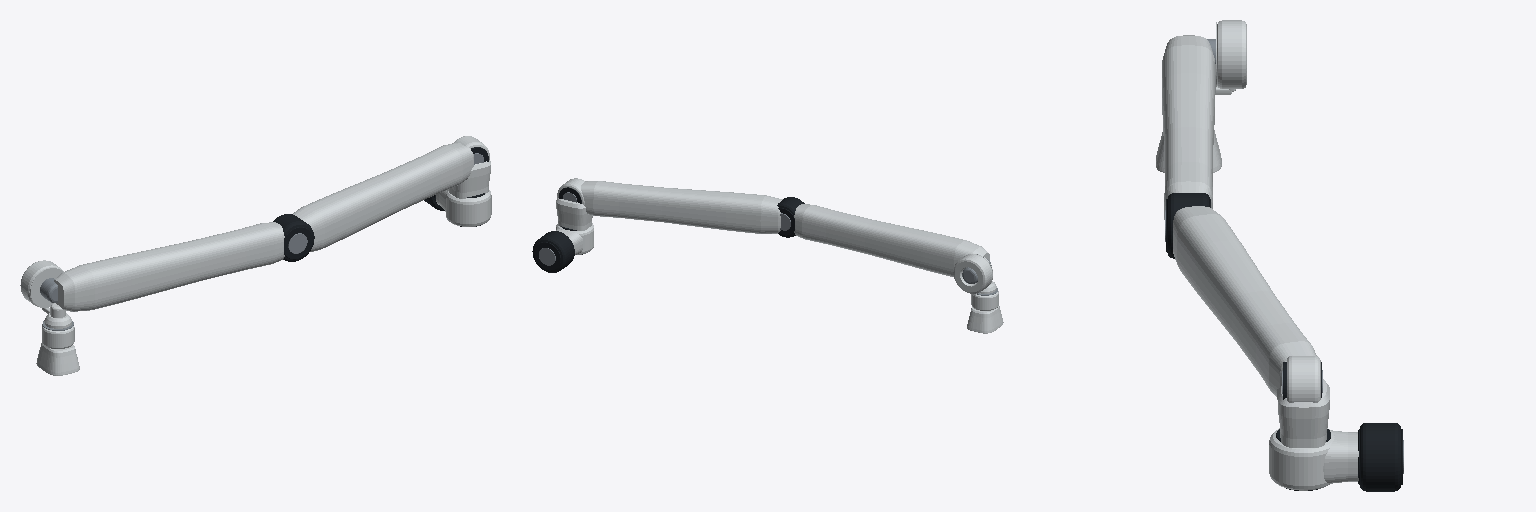
The robot description file, URDF, robot "ur10e_reference":
<?xml version='1.0' encoding='utf-8'?>
<robot name="ur10e_reference">
  <link name="world" />
  <link name="base_link_inertia">
    <inertial>
      <origin xyz="0 0 0" rpy="0 -0 0" />
      <mass value="4.0" />
      <inertia ixx="0.0061063308908" iyy="0.0061063308908" izz="0.01125" ixy="0.0" ixz="0.0" iyz="0.0" />
    </inertial>
    <visual name="base_link_inertia_base_visual">
      <geometry>
        <mesh filename="meshes/base_link_inertia_base_visual.stl" />
      </geometry>
      <material name="base_link_inertia_base">
        <color rgba="0.16 0.18 0.2 1" />
      </material>
    </visual>
    <collision name="base_link_inertia_base_collision">
      <origin xyz="0 0 -0.041" rpy="0 -0 0" />
      <geometry>
        <cylinder radius="0.09112500000000001" length="0.082" />
      </geometry>
    </collision>
    <visual name="base_link_inertia_mounting_rim_visual">
      <geometry>
        <mesh filename="meshes/base_link_inertia_mounting_rim_visual.stl" />
      </geometry>
      <material name="base_link_inertia_mounting_rim">
        <color rgba="0.55 0.58 0.61 1" />
      </material>
    </visual>
    <visual name="base_link_inertia_beam_visual">
      <geometry>
        <mesh filename="meshes/base_link_inertia_beam_visual.stl" />
      </geometry>
      <material name="base_link_inertia_beam">
        <color rgba="0.82 0.84 0.85 1" />
      </material>
    </visual>
    <collision name="base_link_inertia_beam_collision">
      <origin xyz="0 0 0.0281" rpy="0 -0 -1.57079632679" />
      <geometry>
        <box size="0.1 0.082 0.02248" />
      </geometry>
    </collision>
    <visual name="base_link_inertia_shoulder_pan_joint_stator_visual">
      <geometry>
        <mesh filename="meshes/base_link_inertia_shoulder_pan_joint_stator_visual.stl" />
      </geometry>
      <material name="base_link_inertia_shoulder_pan_joint_stator">
        <color rgba="0.82 0.84 0.85 1" />
      </material>
    </visual>
    <collision name="base_link_inertia_shoulder_pan_joint_stator_collision">
      <origin xyz="0 0 0.0807" rpy="0 -0 -1.57079632679" />
      <geometry>
        <cylinder radius="0.0375" length="0.045" />
      </geometry>
    </collision>
  </link>
  <link name="shoulder_link">
    <inertial>
      <origin xyz="0.021 -0.027 0" rpy="0 -0 0" />
      <mass value="7.369" />
      <inertia ixx="0.03408" iyy="0.02156" izz="0.03529" ixy="0.00425" ixz="2.000000000000189e-05" iyz="-8.00000000000061e-05" />
    </inertial>
    <visual name="shoulder_link_shoulder_lift_joint_stator_visual">
      <geometry>
        <mesh filename="meshes/shoulder_link_shoulder_lift_joint_stator_visual.stl" />
      </geometry>
      <material name="shoulder_link_shoulder_lift_joint_stator">
        <color rgba="0.82 0.84 0.85 1" />
      </material>
    </visual>
    <collision name="shoulder_link_shoulder_lift_joint_stator_collision">
      <origin xyz="0 -0.0655 -1.34342785785e-11" rpy="0 1.57079632679 -1.57079632679" />
      <geometry>
        <cylinder radius="0.052" length="0.045" />
      </geometry>
    </collision>
    <visual name="shoulder_link_shoulder_pan_joint_output_shaft_visual">
      <geometry>
        <mesh filename="meshes/shoulder_link_shoulder_pan_joint_output_shaft_visual.stl" />
      </geometry>
      <material name="shoulder_link_shoulder_pan_joint_output_shaft">
        <color rgba="0.82 0.84 0.85 1" />
      </material>
    </visual>
    <collision name="shoulder_link_shoulder_pan_joint_output_shaft_collision">
      <origin xyz="-0 -0 -0.074470000009" rpy="-0 -0 -1.57079632679" />
      <geometry>
        <cylinder radius="0.017625" length="0.09605999998195089" />
      </geometry>
    </collision>
    <visual name="shoulder_link_shoulder_pan_joint_output_fairing_visual">
      <geometry>
        <mesh filename="meshes/shoulder_link_shoulder_pan_joint_output_fairing_visual.stl" />
      </geometry>
      <material name="shoulder_link_shoulder_pan_joint_output_fairing">
        <color rgba="0.82 0.84 0.85 1" />
      </material>
    </visual>
    <collision name="shoulder_link_shoulder_pan_joint_output_fairing_collision">
      <origin xyz="-0 -0 -0.0624500000044" rpy="-0 -0 -1.57079632679" />
      <geometry>
        <cylinder radius="0.0315" length="0.022099999991180563" />
      </geometry>
    </collision>
    <visual name="shoulder_link_shoulder_pan_joint_rotor_ring_visual">
      <geometry>
        <mesh filename="meshes/shoulder_link_shoulder_pan_joint_rotor_ring_visual.stl" />
      </geometry>
      <material name="shoulder_link_shoulder_pan_joint_rotor_ring">
        <color rgba="0.55 0.58 0.61 1" />
      </material>
    </visual>
    <collision name="shoulder_link_shoulder_pan_joint_rotor_ring_collision">
      <origin xyz="0 0 -0.0745" rpy="-0 -0 -1.57079632679" />
      <geometry>
        <cylinder radius="0.036" length="0.002" />
      </geometry>
    </collision>
    <visual name="shoulder_link_shoulder_lift_joint_support_visual">
      <geometry>
        <mesh filename="meshes/shoulder_link_shoulder_lift_joint_support_visual.stl" />
      </geometry>
      <material name="shoulder_link_shoulder_lift_joint_support">
        <color rgba="0.82 0.84 0.85 1" />
      </material>
    </visual>
    <collision name="shoulder_link_shoulder_lift_joint_support_collision">
      <origin xyz="0 -0.0327499999878 -0.0594893015835" rpy="1.570796327 -0 0" />
      <geometry>
        <box size="0.01144 0.01144 0.0655" />
      </geometry>
    </collision>
    <visual name="shoulder_link_shoulder_lift_joint_stator_lug_visual">
      <geometry>
        <mesh filename="meshes/shoulder_link_shoulder_lift_joint_stator_lug_visual.stl" />
      </geometry>
      <material name="shoulder_link_shoulder_lift_joint_stator_lug">
        <color rgba="0.82 0.84 0.85 1" />
      </material>
    </visual>
    <collision name="shoulder_link_shoulder_lift_joint_stator_lug_collision">
      <origin xyz="0 -0.0654999999899 -0.0492446508018" rpy="-3.14159265338 -0 0" />
      <geometry>
        <box size="0.01144 0.01144 0.0204893015768" />
      </geometry>
    </collision>
  </link>
  <link name="upper_arm_link">
    <inertial>
      <origin xyz="-0.2327 0 0.158" rpy="0 -0 0" />
      <mass value="13.051" />
      <inertia ixx="0.02814" iyy="0.77068" izz="0.76943" ixy="5e-05" ixz="-0.01561" iyz="2e-05" />
    </inertial>
    <visual name="upper_arm_link_beam_visual">
      <geometry>
        <mesh filename="meshes/upper_arm_link_beam_visual.stl" />
      </geometry>
      <material name="upper_arm_link_beam">
        <color rgba="0.82 0.84 0.85 1" />
      </material>
    </visual>
    <collision name="upper_arm_link_beam_collision">
      <origin xyz="-0.30635 0 0" rpy="1.57079632679 -0 -1.57079632679" />
      <geometry>
        <box size="0.1 0.082 0.4983" />
      </geometry>
    </collision>
    <visual name="upper_arm_link_shoulder_lift_joint_output_shaft_visual">
      <geometry>
        <mesh filename="meshes/upper_arm_link_shoulder_lift_joint_output_shaft_visual.stl" />
      </geometry>
      <material name="upper_arm_link_shoulder_lift_joint_output_shaft">
        <color rgba="0.55 0.58 0.61 1" />
      </material>
    </visual>
    <collision name="upper_arm_link_shoulder_lift_joint_output_shaft_collision">
      <origin xyz="0 0 0.044" rpy="-0 -0 -1.57079632679" />
      <geometry>
        <cylinder radius="0.024439999999999996" length="0.088" />
      </geometry>
    </collision>
    <visual name="upper_arm_link_shoulder_lift_joint_output_plate_visual">
      <geometry>
        <mesh filename="meshes/upper_arm_link_shoulder_lift_joint_output_plate_visual.stl" />
      </geometry>
      <material name="upper_arm_link_shoulder_lift_joint_output_plate">
        <color rgba="0.82 0.84 0.85 1" />
      </material>
    </visual>
    <collision name="upper_arm_link_shoulder_lift_joint_output_plate_collision">
      <origin xyz="0 0 0.042" rpy="-0 -0 -1.57079632679" />
      <geometry>
        <cylinder radius="0.04939999999999999" length="0.002" />
      </geometry>
    </collision>
  </link>
  <link name="forearm_link">
    <inertial>
      <origin xyz="-0.33155 0 0.068" rpy="0 -0 0" />
      <mass value="3.989" />
      <inertia ixx="0.01014" iyy="0.30928" izz="0.30646" ixy="8e-05" ixz="0.00916" iyz="0.0" />
    </inertial>
    <visual name="forearm_link_housing_visual">
      <geometry>
        <mesh filename="meshes/forearm_link_housing_visual.stl" />
      </geometry>
      <material name="forearm_link_housing">
        <color rgba="0.16 0.18 0.2 1" />
      </material>
    </visual>
    <collision name="forearm_link_housing_collision">
      <origin xyz="0 0 0" rpy="-0 -0 -1.57079632679" />
      <geometry>
        <cylinder radius="0.05" length="0.065" />
      </geometry>
    </collision>
    <visual name="forearm_link_cap_visual">
      <geometry>
        <mesh filename="meshes/forearm_link_cap_visual.stl" />
      </geometry>
      <material name="forearm_link_cap">
        <color rgba="0.16 0.18 0.2 1" />
      </material>
    </visual>
    <visual name="forearm_link_cap_hub_visual">
      <geometry>
        <mesh filename="meshes/forearm_link_cap_hub_visual.stl" />
      </geometry>
      <material name="forearm_link_cap_hub">
        <color rgba="0.55 0.58 0.61 1" />
      </material>
    </visual>
    <visual name="forearm_link_rear_cap_visual">
      <geometry>
        <mesh filename="meshes/forearm_link_rear_cap_visual.stl" />
      </geometry>
      <material name="forearm_link_rear_cap">
        <color rgba="0.16 0.18 0.2 1" />
      </material>
    </visual>
    <visual name="forearm_link_rear_cap_hub_visual">
      <geometry>
        <mesh filename="meshes/forearm_link_rear_cap_hub_visual.stl" />
      </geometry>
      <material name="forearm_link_rear_cap_hub">
        <color rgba="0.55 0.58 0.61 1" />
      </material>
    </visual>
    <visual name="forearm_link_beam_visual">
      <geometry>
        <mesh filename="meshes/forearm_link_beam_visual.stl" />
      </geometry>
      <material name="forearm_link_beam">
        <color rgba="0.82 0.84 0.85 1" />
      </material>
    </visual>
    <collision name="forearm_link_beam_collision">
      <origin xyz="-0.285775 0 0.087075" rpy="1.27503526021 -0 -1.57079632679" />
      <geometry>
        <box size="0.1 0.082 0.487492782383" />
      </geometry>
    </collision>
  </link>
  <link name="wrist_1_link">
    <inertial>
      <origin xyz="0 -0.018 0.007" rpy="0 -0 0" />
      <mass value="2.1" />
      <inertia ixx="0.00296" iyy="0.00258" izz="0.00222" ixy="4.4408920985006265e-21" ixz="-1e-05" iyz="0.00024000000000000017" />
    </inertial>
    <visual name="wrist_1_link_housing_visual">
      <geometry>
        <mesh filename="meshes/wrist_1_link_housing_visual.stl" />
      </geometry>
      <material name="wrist_1_link_housing">
        <color rgba="0.82 0.84 0.85 1" />
      </material>
    </visual>
    <collision name="wrist_1_link_housing_collision">
      <origin xyz="0 0 0" rpy="-0 -0 -1.57079632679" />
      <geometry>
        <cylinder radius="0.045" length="0.052" />
      </geometry>
    </collision>
    <visual name="wrist_1_link_cap_visual">
      <geometry>
        <mesh filename="meshes/wrist_1_link_cap_visual.stl" />
      </geometry>
      <material name="wrist_1_link_cap">
        <color rgba="0.16 0.18 0.2 1" />
      </material>
    </visual>
    <visual name="wrist_1_link_cap_hub_visual">
      <geometry>
        <mesh filename="meshes/wrist_1_link_cap_hub_visual.stl" />
      </geometry>
      <material name="wrist_1_link_cap_hub">
        <color rgba="0.55 0.58 0.61 1" />
      </material>
    </visual>
    <visual name="wrist_1_link_rear_cap_visual">
      <geometry>
        <mesh filename="meshes/wrist_1_link_rear_cap_visual.stl" />
      </geometry>
      <material name="wrist_1_link_rear_cap">
        <color rgba="0.16 0.18 0.2 1" />
      </material>
    </visual>
    <visual name="wrist_1_link_rear_cap_hub_visual">
      <geometry>
        <mesh filename="meshes/wrist_1_link_rear_cap_hub_visual.stl" />
      </geometry>
      <material name="wrist_1_link_rear_cap_hub">
        <color rgba="0.55 0.58 0.61 1" />
      </material>
    </visual>
    <visual name="wrist_1_link_beam_visual">
      <geometry>
        <mesh filename="meshes/wrist_1_link_beam_visual.stl" />
      </geometry>
      <material name="wrist_1_link_beam">
        <color rgba="0.82 0.84 0.85 1" />
      </material>
    </visual>
    <collision name="wrist_1_link_beam_collision">
      <origin xyz="0 -0.059925 -1.22908229538e-11" rpy="1.570796327 -0 0" />
      <geometry>
        <box size="0.0977460531285 0.0801517635654 0.04794" />
      </geometry>
    </collision>
  </link>
  <link name="wrist_2_link">
    <inertial>
      <origin xyz="0 0.018 -0.007" rpy="0 -0 0" />
      <mass value="1.98" />
      <inertia ixx="0.00296" iyy="0.00258" izz="0.00222" ixy="4.4408920985006265e-21" ixz="1e-05" iyz="0.00023999999999999984" />
    </inertial>
    <visual name="wrist_2_link_housing_visual">
      <geometry>
        <mesh filename="meshes/wrist_2_link_housing_visual.stl" />
      </geometry>
      <material name="wrist_2_link_housing">
        <color rgba="0.82 0.84 0.85 1" />
      </material>
    </visual>
    <collision name="wrist_2_link_housing_collision">
      <origin xyz="0 0 0" rpy="-0 -0 -1.57079632679" />
      <geometry>
        <cylinder radius="0.0524475" length="0.07183412772366839" />
      </geometry>
    </collision>
    <visual name="wrist_2_link_cap_visual">
      <geometry>
        <mesh filename="meshes/wrist_2_link_cap_visual.stl" />
      </geometry>
      <material name="wrist_2_link_cap">
        <color rgba="0.16 0.18 0.2 1" />
      </material>
    </visual>
    <visual name="wrist_2_link_cap_hub_visual">
      <geometry>
        <mesh filename="meshes/wrist_2_link_cap_hub_visual.stl" />
      </geometry>
      <material name="wrist_2_link_cap_hub">
        <color rgba="0.55 0.58 0.61 1" />
      </material>
    </visual>
    <visual name="wrist_2_link_rear_cap_visual">
      <geometry>
        <mesh filename="meshes/wrist_2_link_rear_cap_visual.stl" />
      </geometry>
      <material name="wrist_2_link_rear_cap">
        <color rgba="0.16 0.18 0.2 1" />
      </material>
    </visual>
    <visual name="wrist_2_link_rear_cap_hub_visual">
      <geometry>
        <mesh filename="meshes/wrist_2_link_rear_cap_hub_visual.stl" />
      </geometry>
      <material name="wrist_2_link_rear_cap_hub">
        <color rgba="0.55 0.58 0.61 1" />
      </material>
    </visual>
    <visual name="wrist_2_link_beam_visual">
      <geometry>
        <mesh filename="meshes/wrist_2_link_beam_visual.stl" />
      </geometry>
      <material name="wrist_2_link_beam">
        <color rgba="0.82 0.84 0.85 1" />
      </material>
    </visual>
    <collision name="wrist_2_link_beam_collision">
      <origin xyz="0 0.058275 -1.19524022967e-11" rpy="1.570796327 -0 3.14159265359" />
      <geometry>
        <box size="0.087602594785 0.0718341277237 0.04662" />
      </geometry>
    </collision>
  </link>
  <link name="wrist_3_link">
    <inertial>
      <origin xyz="0 0 -0.026" rpy="0 -0 0" />
      <mass value="0.615" />
      <inertia ixx="0.0004" iyy="0.00041" izz="0.00034" ixy="0.0" ixz="0.0" iyz="0.0" />
    </inertial>
    <visual name="wrist_3_link_housing_visual">
      <geometry>
        <mesh filename="meshes/wrist_3_link_housing_visual.stl" />
      </geometry>
      <material name="wrist_3_link_housing">
        <color rgba="0.16 0.18 0.2 1" />
      </material>
    </visual>
    <collision name="wrist_3_link_housing_collision">
      <origin xyz="0 0 0" rpy="-0 -0 -1.57079632679" />
      <geometry>
        <cylinder radius="0.052284917097971735" length="0.06351649188198047" />
      </geometry>
    </collision>
    <visual name="wrist_3_link_cap_visual">
      <geometry>
        <mesh filename="meshes/wrist_3_link_cap_visual.stl" />
      </geometry>
      <material name="wrist_3_link_cap">
        <color rgba="0.16 0.18 0.2 1" />
      </material>
    </visual>
    <visual name="wrist_3_link_cap_hub_visual">
      <geometry>
        <mesh filename="meshes/wrist_3_link_cap_hub_visual.stl" />
      </geometry>
      <material name="wrist_3_link_cap_hub">
        <color rgba="0.55 0.58 0.61 1" />
      </material>
    </visual>
    <visual name="wrist_3_link_rear_cap_visual">
      <geometry>
        <mesh filename="meshes/wrist_3_link_rear_cap_visual.stl" />
      </geometry>
      <material name="wrist_3_link_rear_cap">
        <color rgba="0.16 0.18 0.2 1" />
      </material>
    </visual>
    <visual name="wrist_3_link_rear_cap_hub_visual">
      <geometry>
        <mesh filename="meshes/wrist_3_link_rear_cap_hub_visual.stl" />
      </geometry>
      <material name="wrist_3_link_rear_cap_hub">
        <color rgba="0.55 0.58 0.61 1" />
      </material>
    </visual>
    <visual name="wrist_3_link_flange_visual">
      <geometry>
        <mesh filename="meshes/wrist_3_link_flange_visual.stl" />
      </geometry>
      <material name="wrist_3_link_flange">
        <color rgba="0.55 0.58 0.61 1" />
      </material>
    </visual>
    <collision name="wrist_3_link_flange_collision">
      <origin xyz="0 0 0" rpy="0 -1.11022302463e-16 1.11022302463e-16" />
      <geometry>
        <cylinder radius="0.04066604663175579" length="0.013942644559459129" />
      </geometry>
    </collision>
    <visual name="wrist_3_link_flange_fastener_0_visual">
      <geometry>
        <mesh filename="meshes/wrist_3_link_flange_fastener_0_visual.stl" />
      </geometry>
      <material name="wrist_3_link_flange_fastener_0">
        <color rgba="0.16 0.18 0.2 1" />
      </material>
    </visual>
    <visual name="wrist_3_link_flange_fastener_1_visual">
      <geometry>
        <mesh filename="meshes/wrist_3_link_flange_fastener_1_visual.stl" />
      </geometry>
      <material name="wrist_3_link_flange_fastener_1">
        <color rgba="0.16 0.18 0.2 1" />
      </material>
    </visual>
    <visual name="wrist_3_link_flange_fastener_2_visual">
      <geometry>
        <mesh filename="meshes/wrist_3_link_flange_fastener_2_visual.stl" />
      </geometry>
      <material name="wrist_3_link_flange_fastener_2">
        <color rgba="0.16 0.18 0.2 1" />
      </material>
    </visual>
    <visual name="wrist_3_link_flange_fastener_3_visual">
      <geometry>
        <mesh filename="meshes/wrist_3_link_flange_fastener_3_visual.stl" />
      </geometry>
      <material name="wrist_3_link_flange_fastener_3">
        <color rgba="0.16 0.18 0.2 1" />
      </material>
    </visual>
  </link>
  <link name="tool_frame" />
  <joint name="world_fixed" type="fixed">
    <parent link="world" />
    <child link="base_link_inertia" />
    <origin xyz="0 0 0" rpy="0 -0 3.14159265359" />
  </joint>
  <joint name="shoulder_pan_joint" type="revolute">
    <parent link="base_link_inertia" />
    <child link="shoulder_link" />
    <origin xyz="0 0 0.1807" rpy="0 -0 0" />
    <axis xyz="0 0 1" />
    <limit lower="-6.283185307179586" upper="6.283185307179586" effort="330.0" velocity="2.0943951023931953" />
    <dynamics damping="0" friction="0" />
  </joint>
  <joint name="shoulder_lift_joint" type="revolute">
    <parent link="shoulder_link" />
    <child link="upper_arm_link" />
    <origin xyz="0 0 0" rpy="1.570796327 -0 0" />
    <axis xyz="0 0 1" />
    <limit lower="-6.283185307179586" upper="6.283185307179586" effort="330.0" velocity="2.0943951023931953" />
    <dynamics damping="0" friction="0" />
  </joint>
  <joint name="elbow_joint" type="revolute">
    <parent link="upper_arm_link" />
    <child link="forearm_link" />
    <origin xyz="-0.6127 0 0" rpy="0 -0 0" />
    <axis xyz="0 0 1" />
    <limit lower="-3.141592653589793" upper="3.141592653589793" effort="150.0" velocity="3.141592653589793" />
    <dynamics damping="0" friction="0" />
  </joint>
  <joint name="wrist_1_joint" type="revolute">
    <parent link="forearm_link" />
    <child link="wrist_1_link" />
    <origin xyz="-0.57155 0 0.17415" rpy="0 -0 0" />
    <axis xyz="0 0 1" />
    <limit lower="-6.283185307179586" upper="6.283185307179586" effort="54.0" velocity="3.141592653589793" />
    <dynamics damping="0" friction="0" />
  </joint>
  <joint name="wrist_2_joint" type="revolute">
    <parent link="wrist_1_link" />
    <child link="wrist_2_link" />
    <origin xyz="0 -0.11985 -2.45816459076e-11" rpy="1.570796327 -0 0" />
    <axis xyz="0 0 1" />
    <limit lower="-6.283185307179586" upper="6.283185307179586" effort="54.0" velocity="3.141592653589793" />
    <dynamics damping="0" friction="0" />
  </joint>
  <joint name="wrist_3_joint" type="revolute">
    <parent link="wrist_2_link" />
    <child link="wrist_3_link" />
    <origin xyz="0 0.11655 -2.39048045935e-11" rpy="-1.570796327 1.22464679915e-16 -1.22464679915e-16" />
    <axis xyz="0 0 1" />
    <limit lower="-6.283185307179586" upper="6.283185307179586" effort="54.0" velocity="3.141592653589793" />
    <dynamics damping="0" friction="0" />
  </joint>
  <joint name="tool_fixed" type="fixed">
    <parent link="wrist_3_link" />
    <child link="tool_frame" />
    <origin xyz="0 0 0" rpy="0 -1.11022302463e-16 1.11022302463e-16" />
  </joint>
  <mujoco>
    <compiler strippath="false" discardvisual="false" fusestatic="false" />
  </mujoco>
</robot>

--- Facts derived from the render (not from the file) ---
The picture shows the robot from 3 angles, left to right: view 1: azimuth 30°, elevation 25°; view 2: azimuth 150°, elevation 25°; view 3: azimuth 270°, elevation 25°; orthographic projection.
Robot: ur10e_reference — 9 links, 8 joints (6 revolute, 2 fixed); root link world; default pose: all joints at 0.
Links seen in each view (by area): view 1: upper_arm_link, forearm_link, base_link_inertia, wrist_2_link, wrist_1_link, shoulder_link; view 2: forearm_link, upper_arm_link, wrist_1_link, wrist_3_link, shoulder_link, base_link_inertia, wrist_2_link; view 3: forearm_link, upper_arm_link, wrist_1_link, wrist_2_link, wrist_3_link, shoulder_link.
Link boxes in pixels (left/top/right/bottom): upper_arm_link: left=30, top=222, right=284, bottom=311; forearm_link: left=273, top=143, right=473, bottom=261; base_link_inertia: left=36, top=325, right=79, bottom=375; wrist_2_link: left=436, top=190, right=491, bottom=226; wrist_1_link: left=448, top=136, right=490, bottom=198; shoulder_link: left=20, top=260, right=73, bottom=330; forearm_link: left=581, top=181, right=804, bottom=237; upper_arm_link: left=794, top=204, right=992, bottom=283; wrist_1_link: left=556, top=178, right=592, bottom=230; wrist_3_link: left=532, top=231, right=574, bottom=272; shoulder_link: left=953, top=254, right=997, bottom=295; base_link_inertia: left=967, top=291, right=1003, bottom=333; wrist_2_link: left=556, top=223, right=593, bottom=254; forearm_link: left=1165, top=193, right=1316, bottom=396; upper_arm_link: left=1162, top=22, right=1216, bottom=219; wrist_1_link: left=1277, top=356, right=1329, bottom=447; wrist_2_link: left=1269, top=428, right=1358, bottom=490; wrist_3_link: left=1358, top=423, right=1403, bottom=491; shoulder_link: left=1215, top=20, right=1246, bottom=94.
Size in the robot's own frame: 1.29 by 0.3764 by 0.2327 metres.
Meshes: 41 distinct files referenced, 39 mesh visuals loaded (39 binary STL); not drawn: 2 (reference not matched to a file when rendering).
